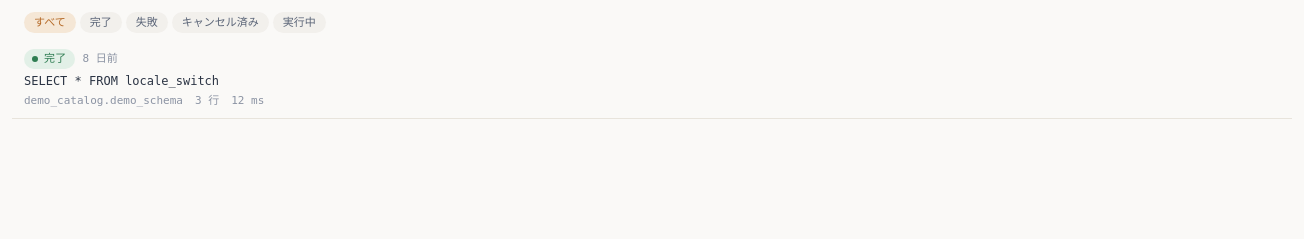
Test case: HistoryPanel: ロケール切替でフィルタチップ/操作ボタンが日英で切り替わる › ja ロケールでは日本語ラベルが表示される
The width and height of the screenshot is (1304, 239).
Click the button that starts with "8 日前".
click(49, 59)  # box [12,40,1292,118]
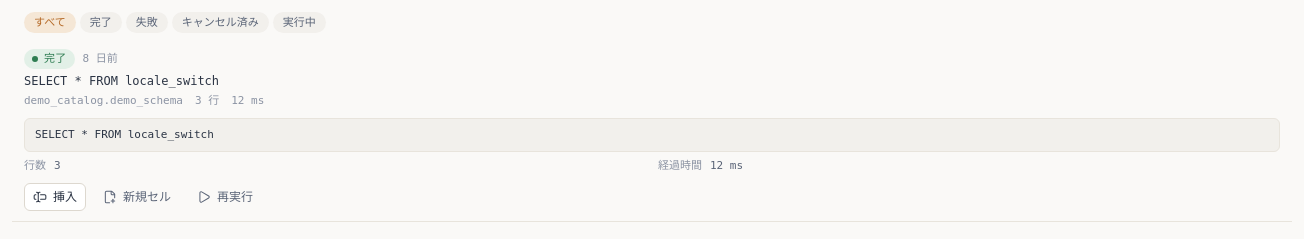
Check: the text "挿入" is shown, box [24,182,86,210]
Check: the text "新規セル" is shown, box [94,182,180,210]
Check: the text "再実行" is shown, box [188,182,262,210]
